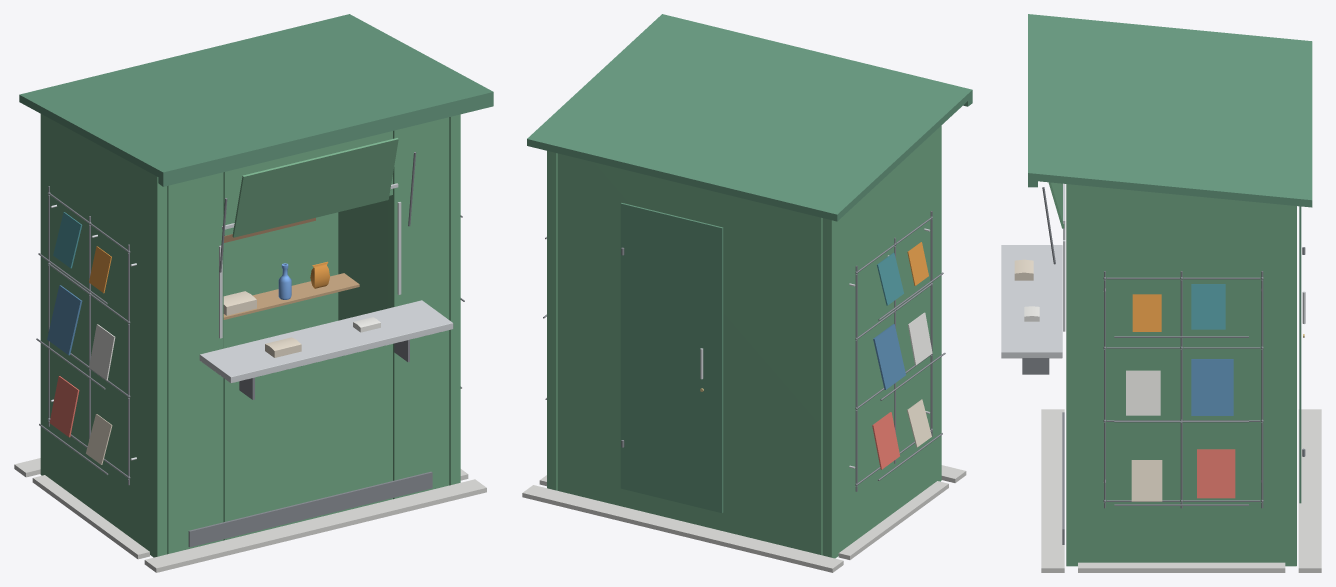
The model's file is Newsstand_Corner.fbx.
3 renders of one model, left to right at view 1: azimuth 30°, elevation 25°; view 2: azimuth 150°, elevation 25°; view 3: azimuth 270°, elevation 25°, orthographic. The views are drawn at different scales.
Visible parts, largest first — view 1: LOD0; view 2: LOD0; view 3: LOD0.
Part boxes in pixels (<box>): LOD0: <box>14,14,493,572</box>; LOD0: <box>522,14,972,572</box>; LOD0: <box>1001,14,1321,572</box>.
Size of what is drawn, in the model's own units: 214 by 230 by 167.
